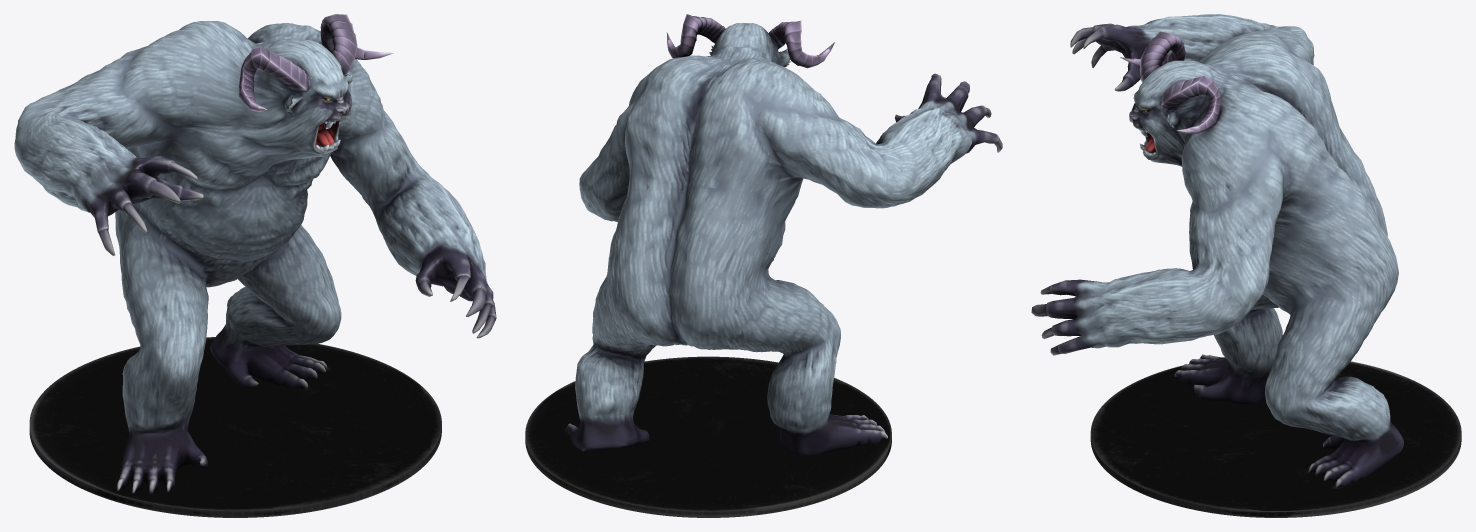
The model's file is MZ4250 - Yeti.glb.
3 renders of one model, left to right at view 1: azimuth 30°, elevation 25°; view 2: azimuth 150°, elevation 25°; view 3: azimuth 270°, elevation 25°, orthographic. The views are drawn at different scales.
Parts seen in each view (by area): view 1: body_low.001, base_low.001; view 2: body_low.001, base_low.001; view 3: body_low.001, base_low.001.
Part boxes in pixels (x1,y1,x2,y2): body_low.001: (14, 14, 496, 494); base_low.001: (29, 337, 441, 517); body_low.001: (567, 14, 1002, 455); base_low.001: (525, 356, 891, 517); body_low.001: (1031, 14, 1403, 487); base_low.001: (1090, 361, 1461, 517).
Bounding box in the file's own units: 2.27 × 2.3 × 2.29.
Materials: 1 (1 with a texture image).
